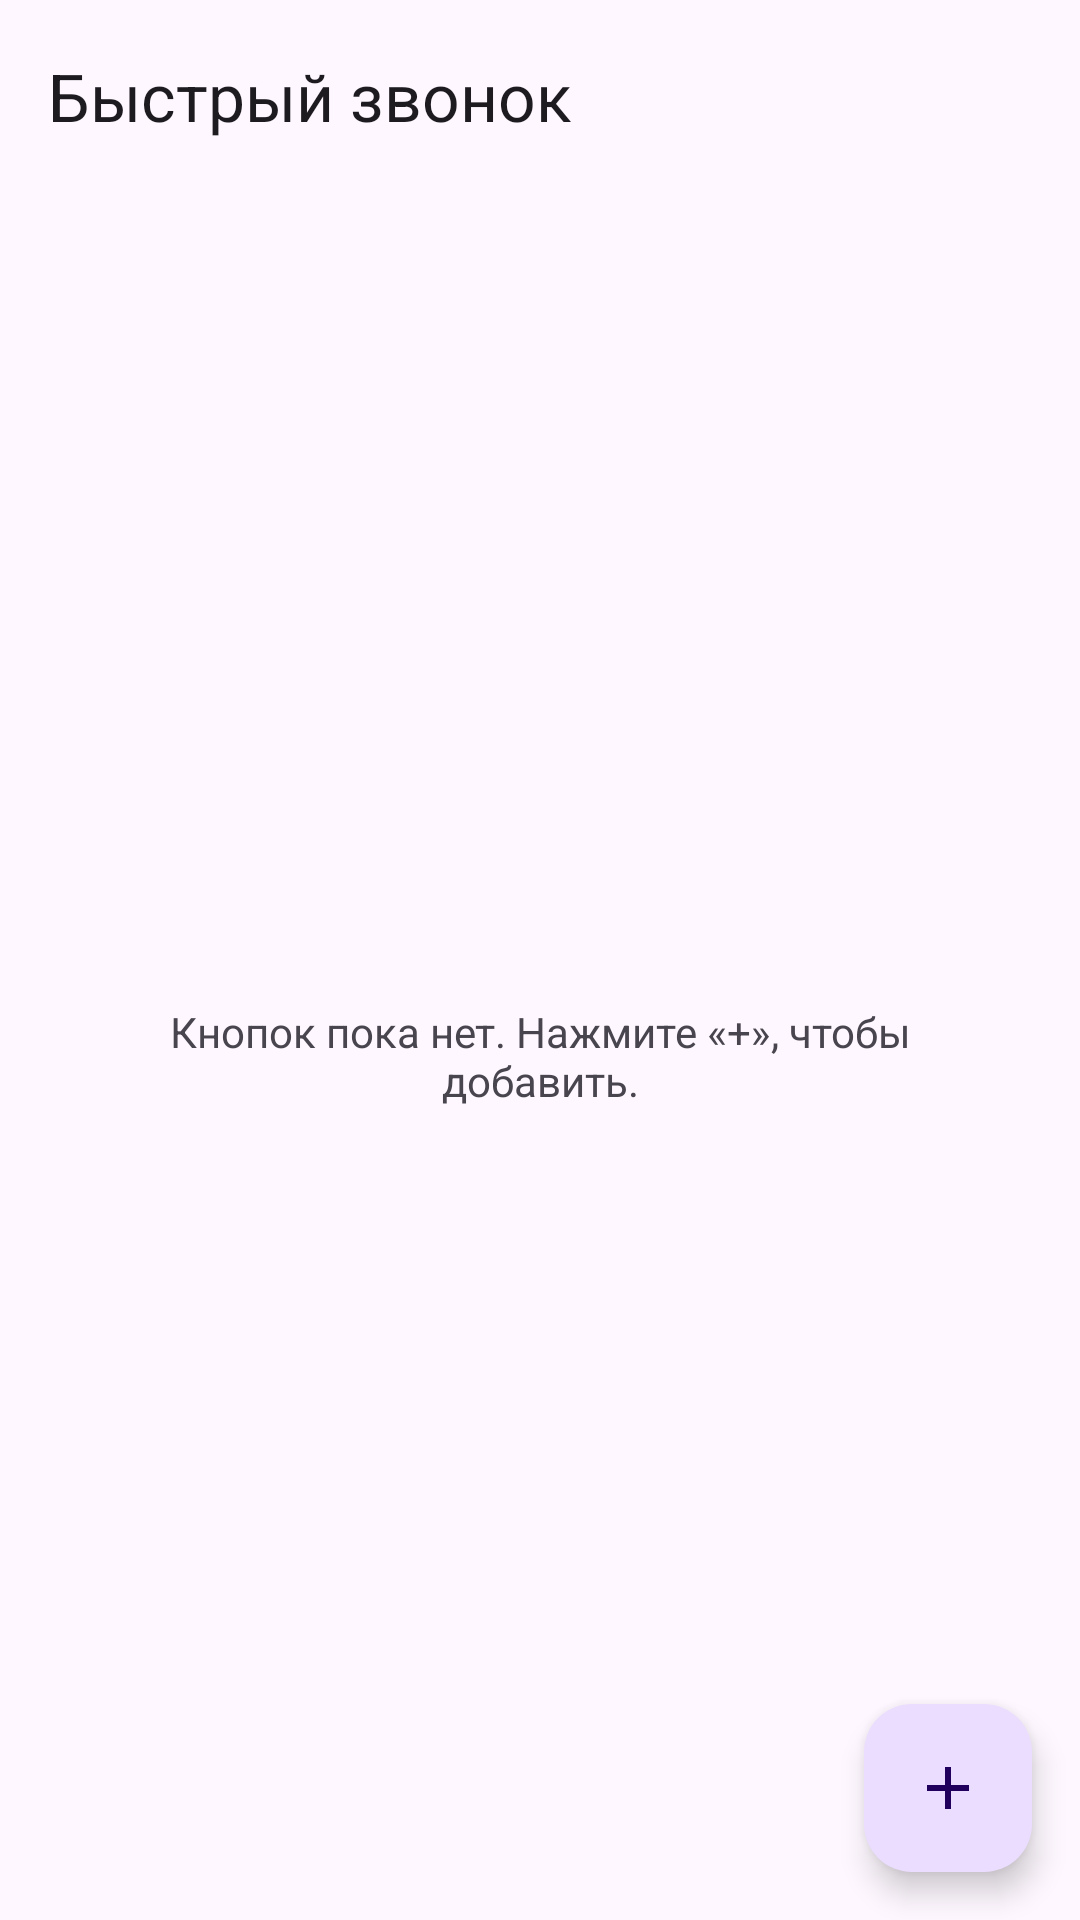

Locate icon controls on the screen. Image size 1080×1920, boxes as (x1, y1, x2, y2).
Добавить кнопку: (864, 1704, 1032, 1872)
